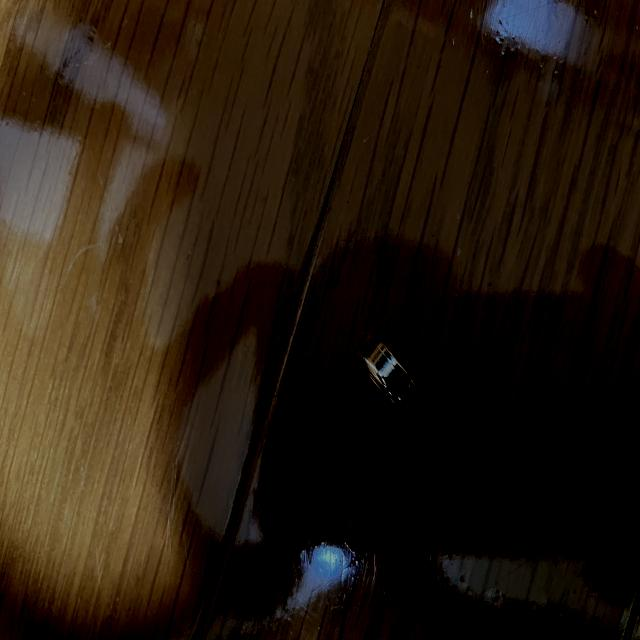COIN: (357, 331, 416, 408)
